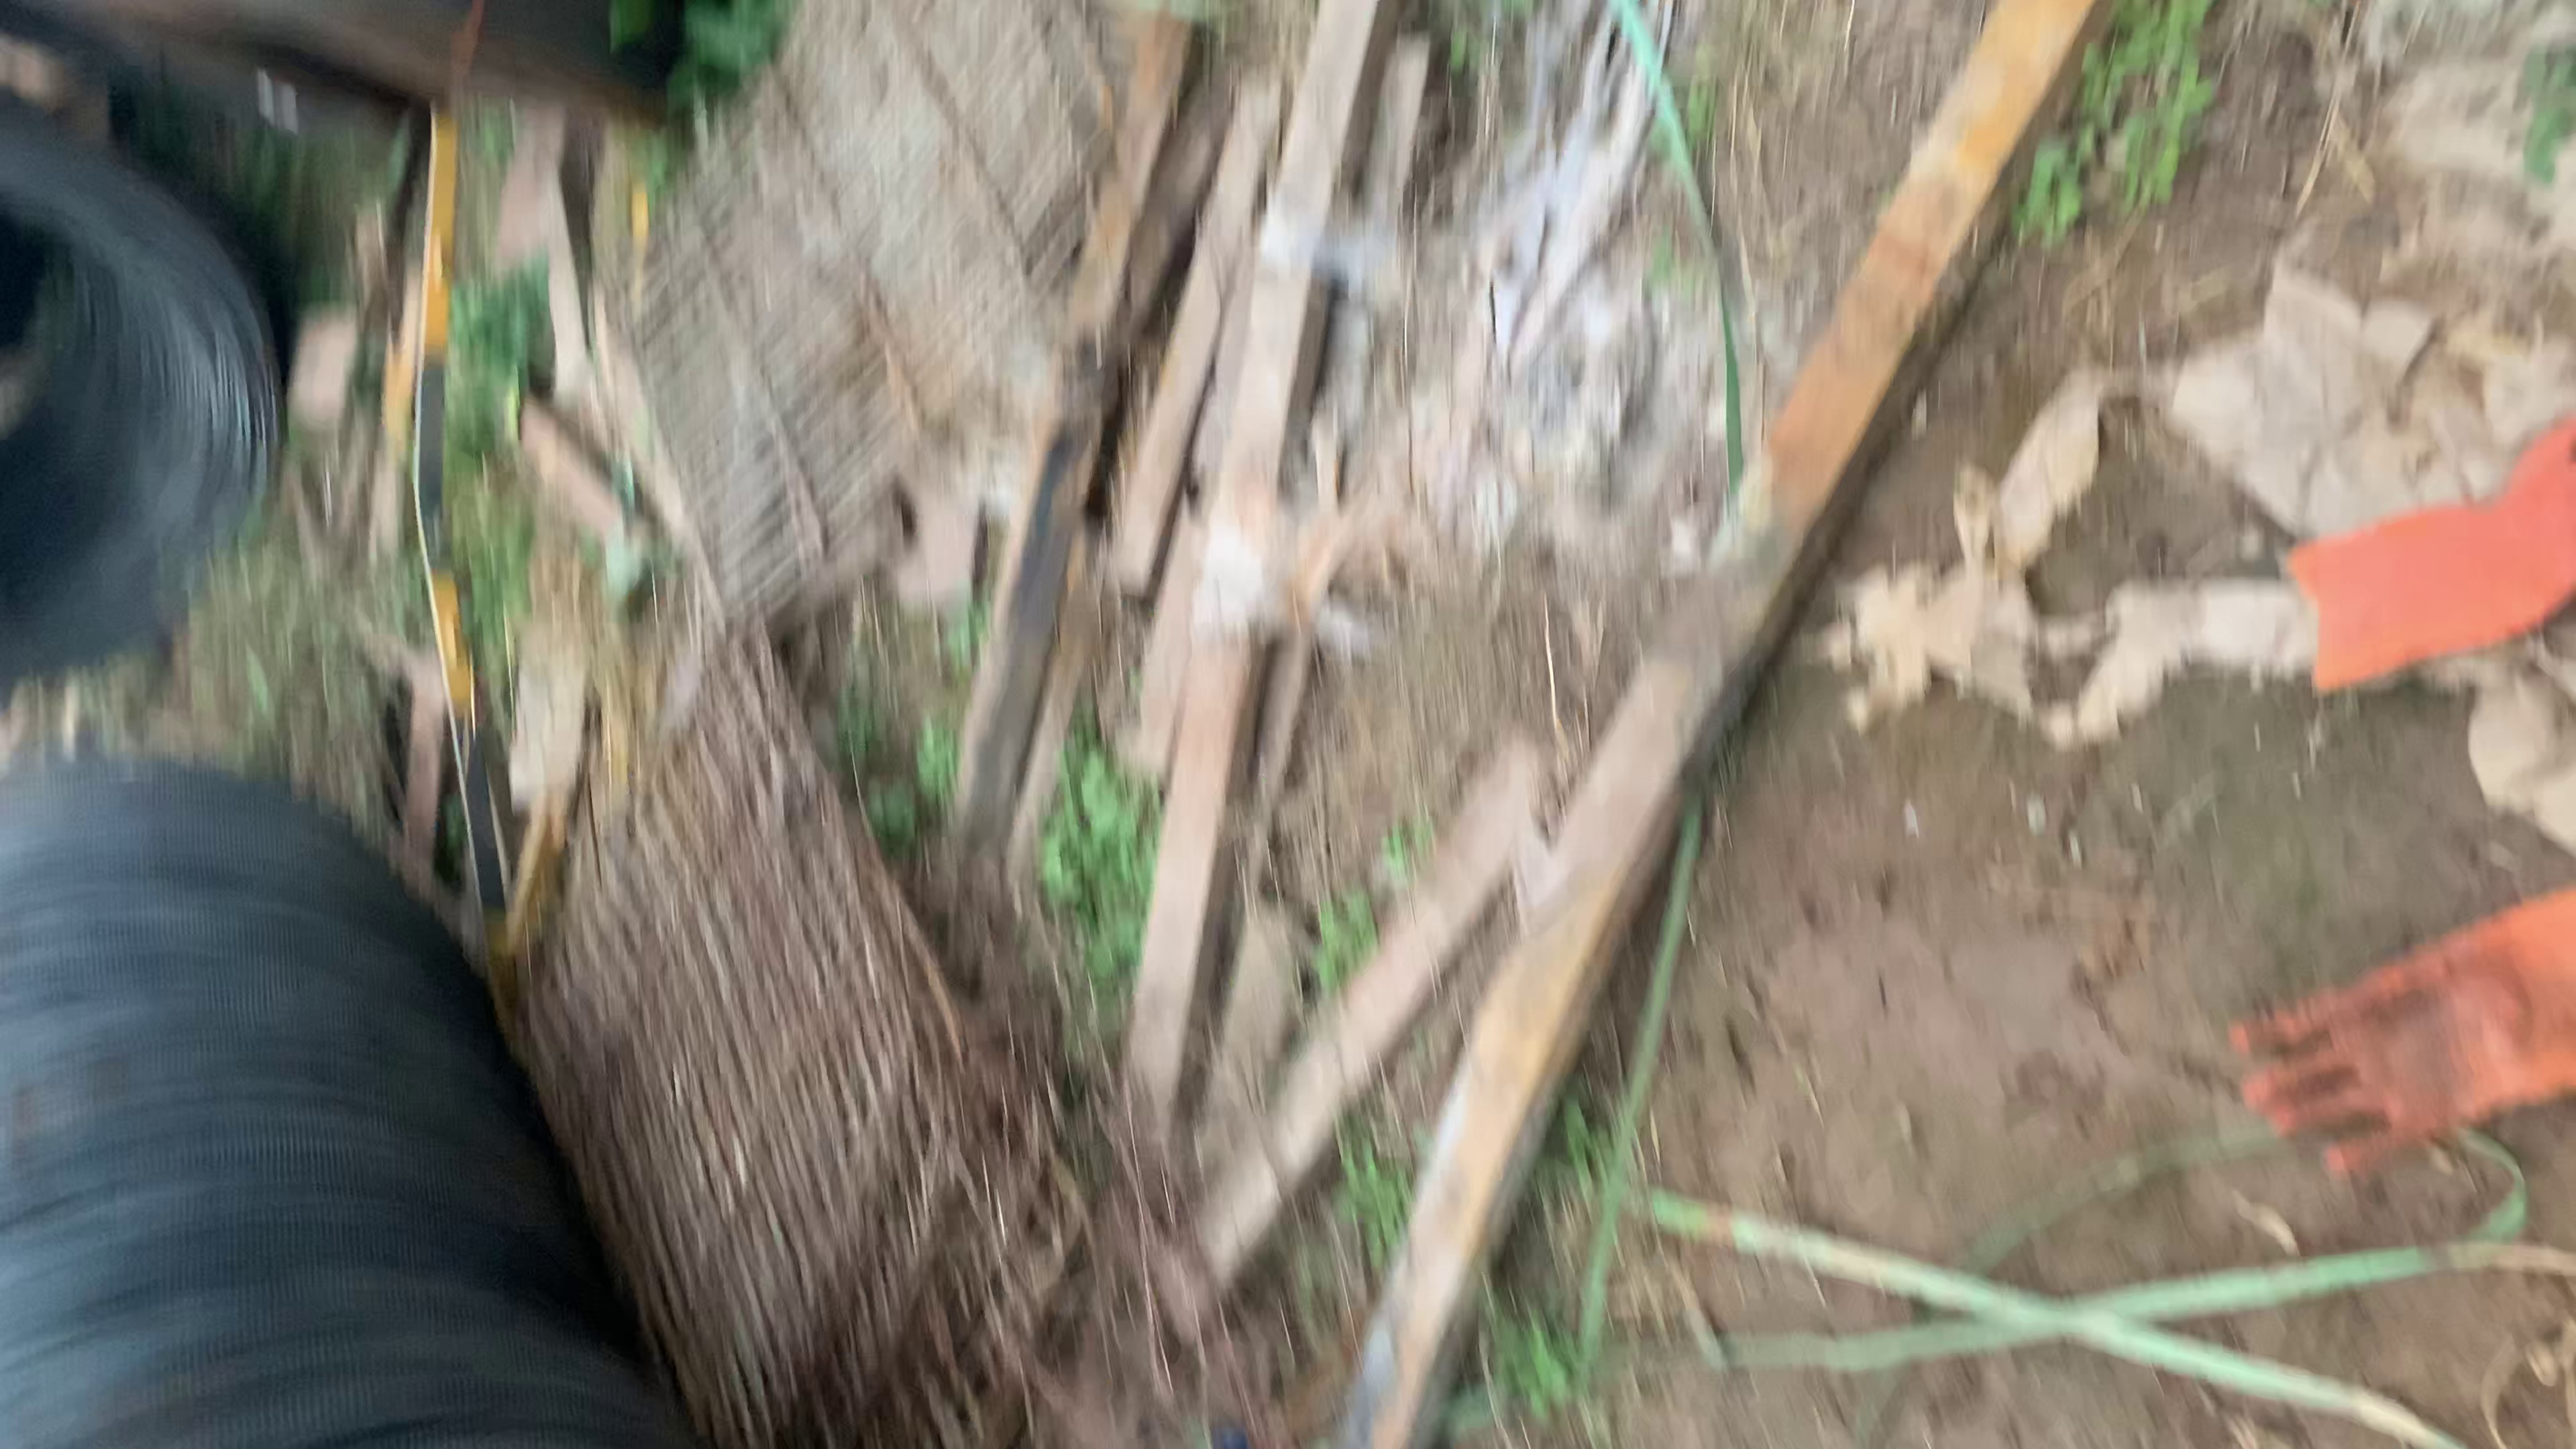coil: (0, 133, 308, 708)
